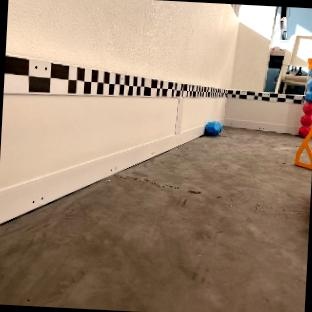V5_BLUE: (204, 120, 222, 136)
V5_RED: (299, 100, 312, 136)
